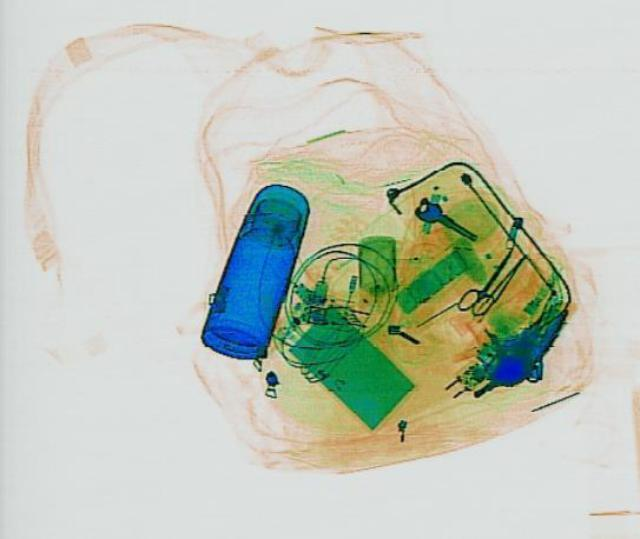Scissors: (454, 244, 524, 317)
